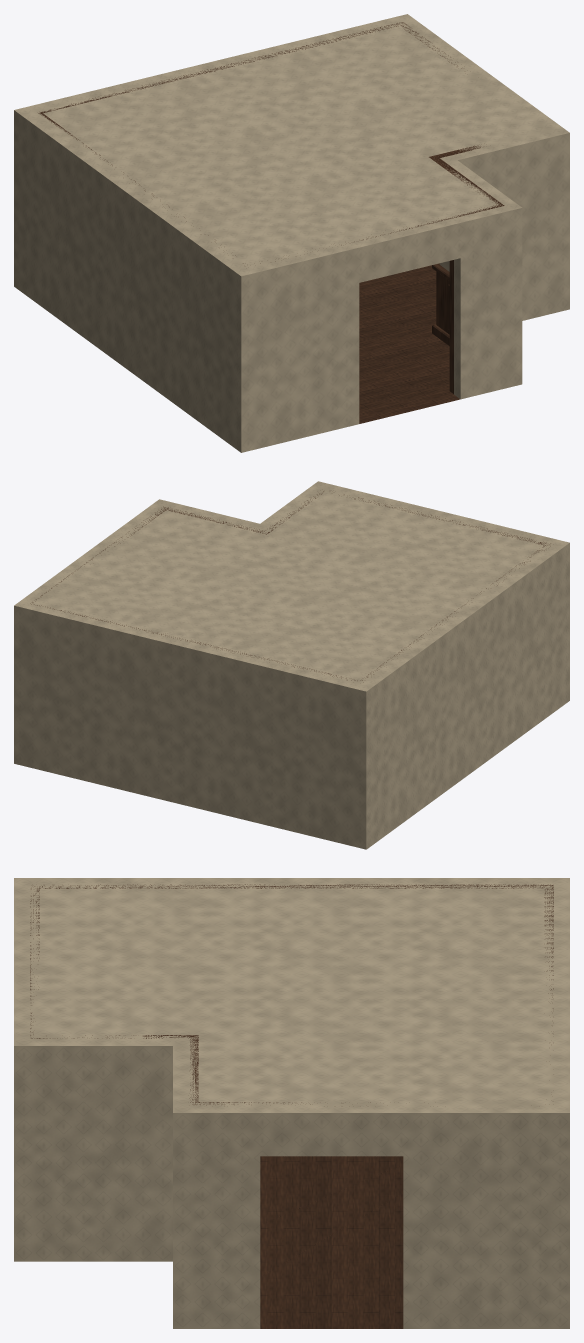
Rendered from CornerHall.fbx.
3 views of the same model, one above another, from view 1: azimuth 30°, elevation 25°; view 2: azimuth 150°, elevation 25°; view 3: azimuth 270°, elevation 25° (orthographic). The views are drawn at different scales.
Parts seen in each view (by area): view 1: SM_CornerHall.001; view 2: SM_CornerHall.001; view 3: SM_CornerHall.001.
Boxes of the visible parts, x1,y1,x2,y2 form: SM_CornerHall.001: (14,14,569,452); SM_CornerHall.001: (14,481,569,849); SM_CornerHall.001: (14,878,569,1328).
Bounding box in the file's own units: 700 × 300 × 700.
Materials: 3 (3 with a texture image).
